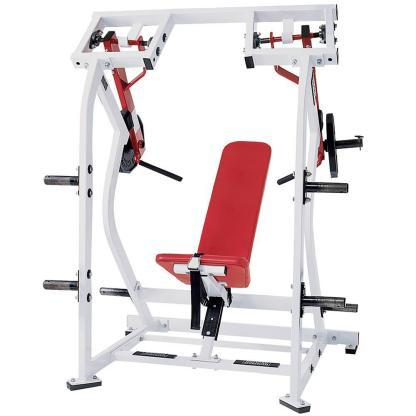shoulder press machine: (21, 5, 416, 416)
